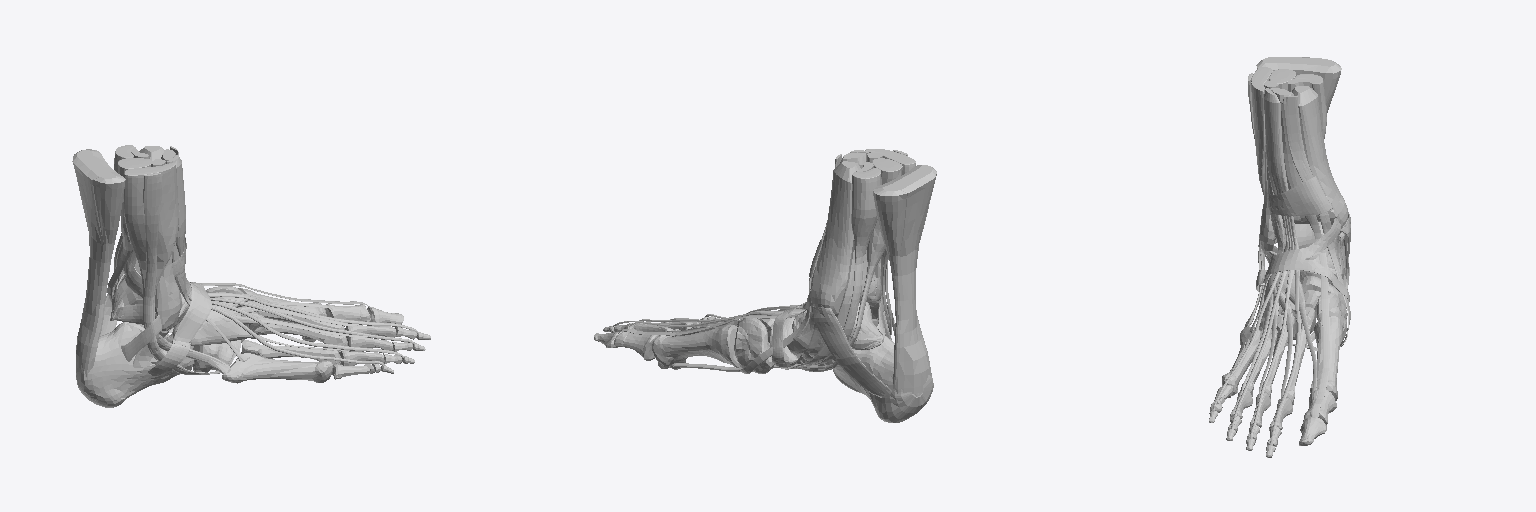
The model's file is foot-1.obj.
3 views of the same model, side by side, from view 1: azimuth 30°, elevation 25°; view 2: azimuth 150°, elevation 25°; view 3: azimuth 270°, elevation 25° (orthographic).
Size of the model in its own units: 11.3 by 7.79 by 4.13.